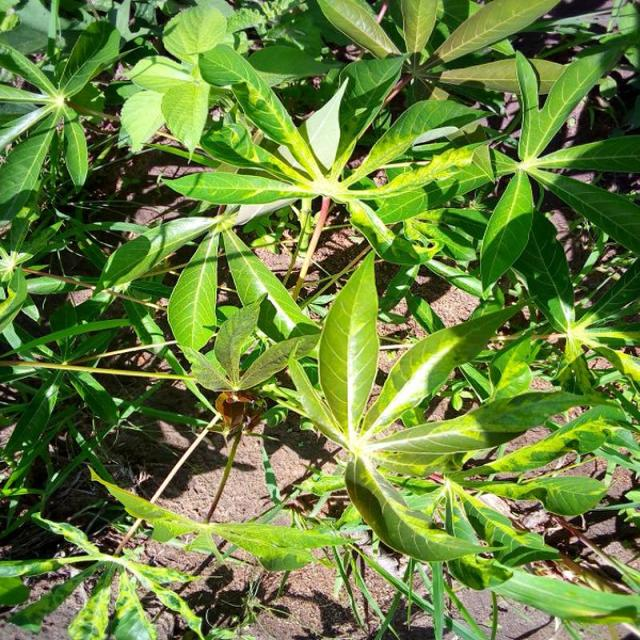cassava leaf: (3, 1, 639, 637), (318, 248, 381, 444)
